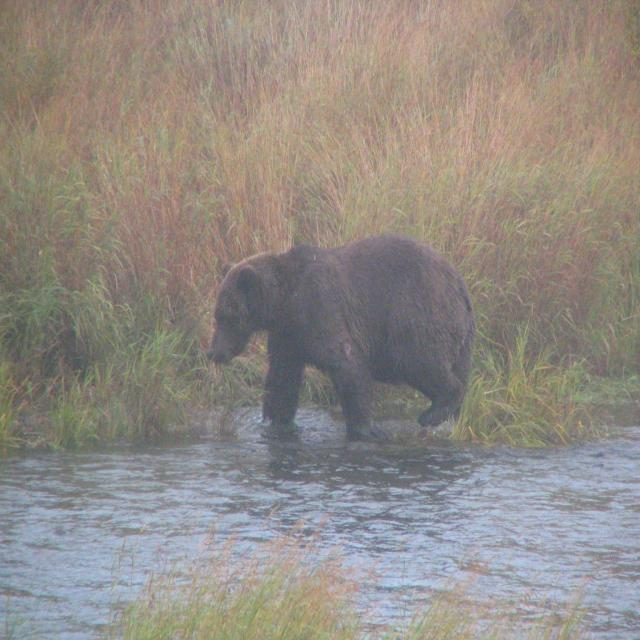bear face: (208, 235, 474, 431)
